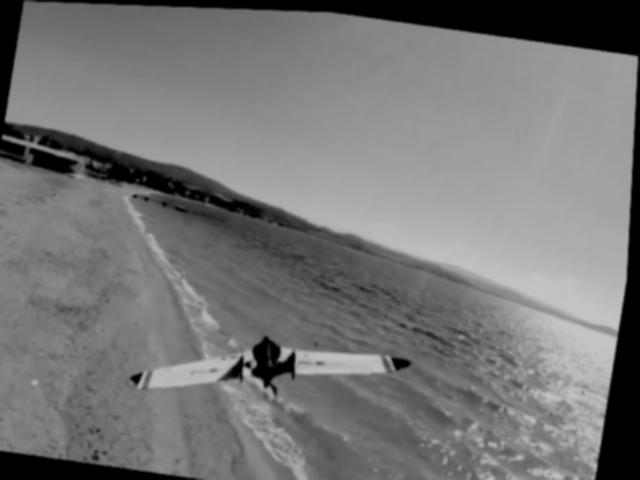hedef: (126, 298, 426, 428)
